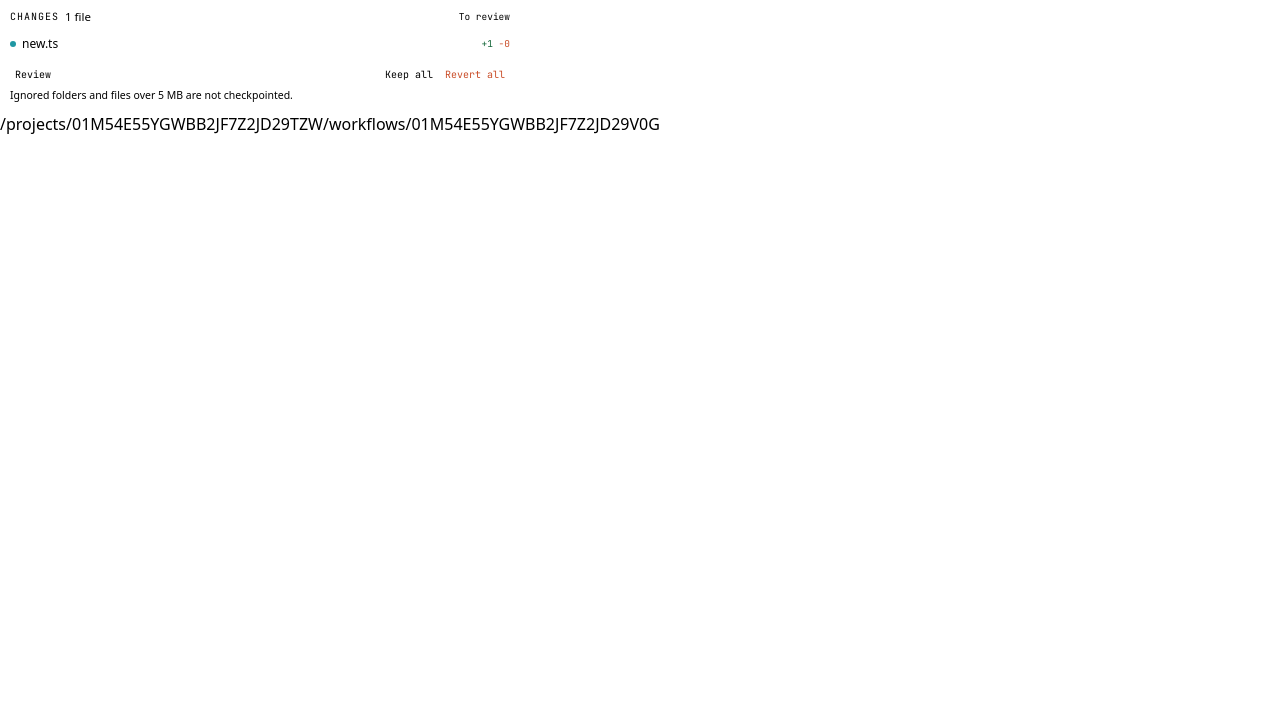
D300 the Changes card under a chat turn › says one added file in the singular
Click the button "Revert all" at (475, 75), box [440,65,510,84]
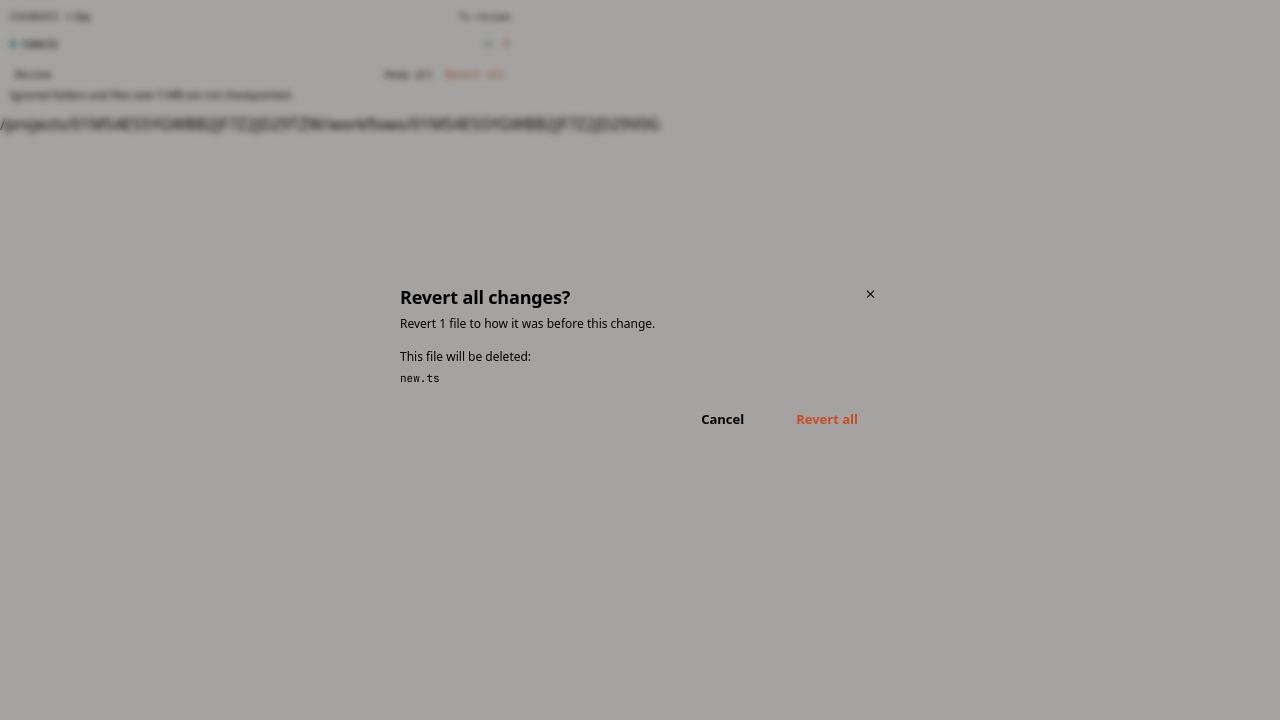
Check: the dialog "Revert all changes?" does not show "more", box [380,264,900,456]
Check: the dialog "Revert all changes?" shows "Revert 1 file to how it was before this change.", box [400,315,655,332]
Check: the dialog "Revert all changes?" shows "This file will be deleted:", box [400,348,531,365]
